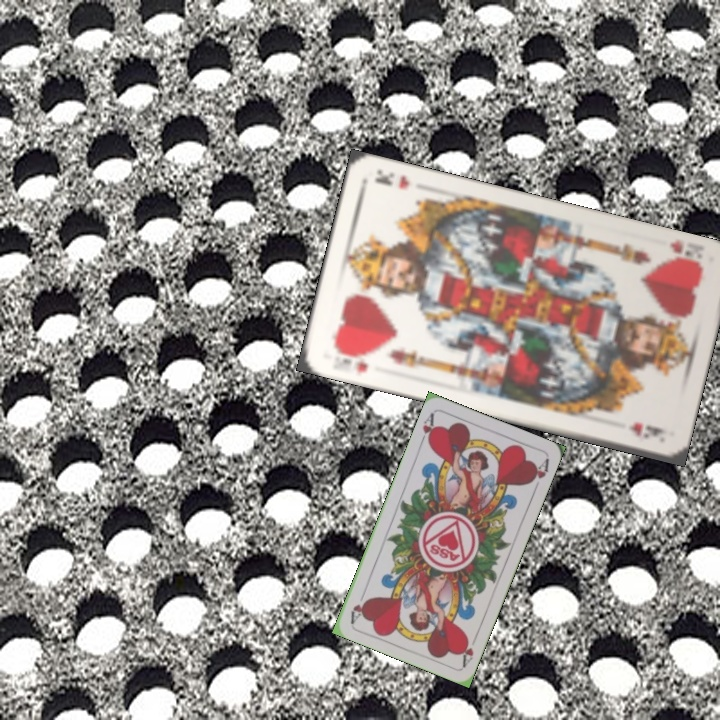HA: (456, 630, 480, 669), (416, 409, 439, 448)
HK: (663, 237, 706, 271), (329, 343, 372, 376)
